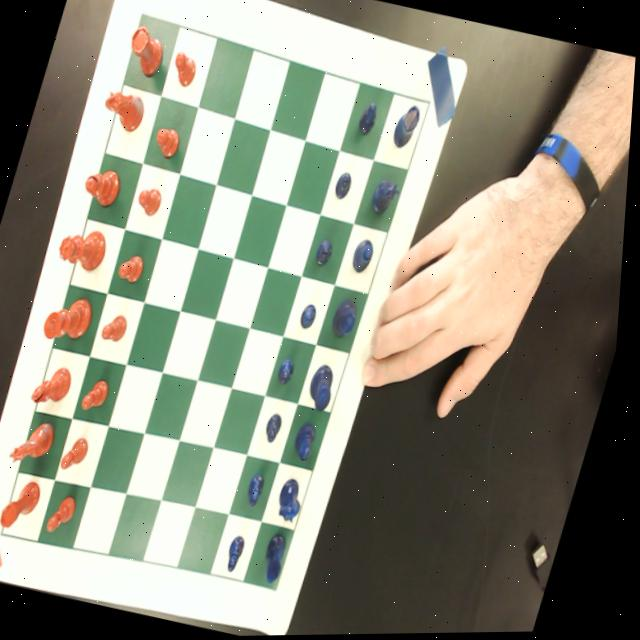B: (294, 420, 324, 462), (351, 236, 379, 275)
K: (308, 361, 344, 415)
N: (278, 477, 315, 527), (369, 176, 405, 218)
P: (356, 98, 382, 138), (229, 533, 254, 573), (265, 410, 290, 446), (249, 472, 273, 508), (278, 356, 302, 388), (316, 235, 339, 268), (334, 168, 357, 201), (300, 302, 321, 331)
Q: (331, 296, 364, 340)
R: (263, 532, 299, 587), (391, 104, 422, 151)
b: (80, 158, 128, 210), (34, 362, 80, 408)
k: (44, 287, 101, 346)
n: (12, 414, 65, 471), (98, 82, 152, 136)
p: (51, 492, 85, 537), (83, 374, 116, 415), (167, 49, 200, 89), (64, 433, 96, 473), (151, 123, 184, 160), (134, 184, 167, 219), (102, 310, 134, 345), (118, 250, 150, 284)
q: (57, 221, 114, 274)
r: (120, 21, 171, 80), (2, 474, 50, 533)
